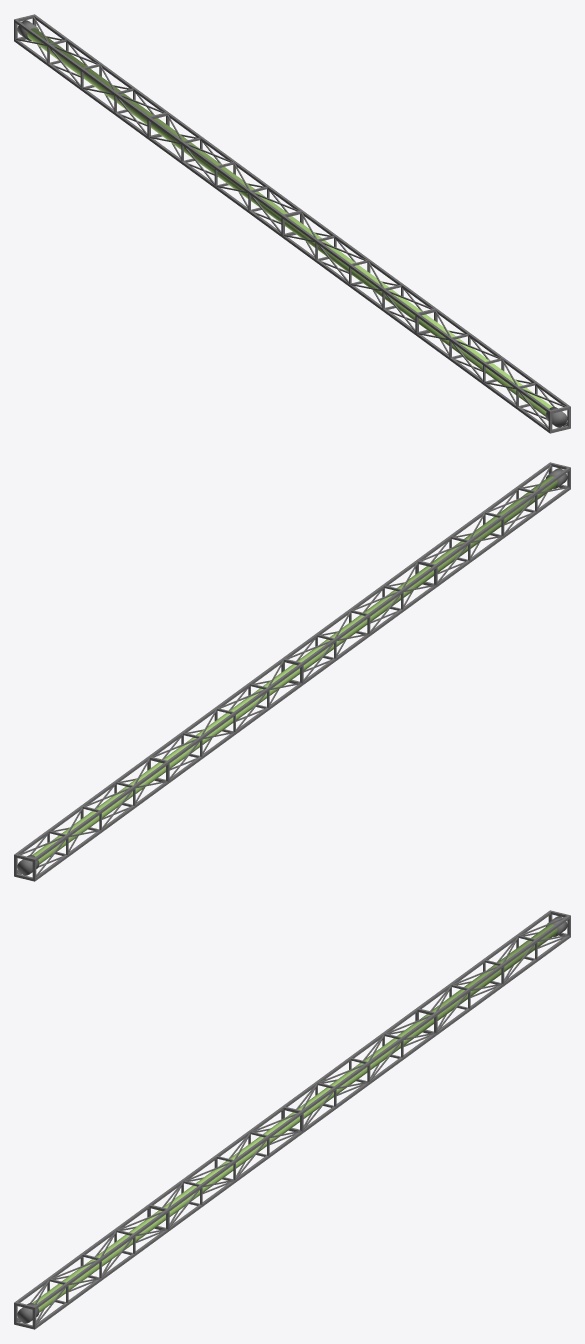
The model's file is Light_stick.fbx.
3 views of the same model, one above another, from view 1: azimuth 30°, elevation 25°; view 2: azimuth 150°, elevation 25°; view 3: azimuth 330°, elevation 25° (orthographic).
Visible parts, largest first — view 1: Light_stick; view 2: Light_stick; view 3: Light_stick.
Boxes of the visible parts, x1,y1,x2,y2 form: Light_stick: (14,14,570,433); Light_stick: (14,462,570,881); Light_stick: (14,910,570,1329).
Bounding box in the file's own units: 22.5 × 22.5 × 1000.
